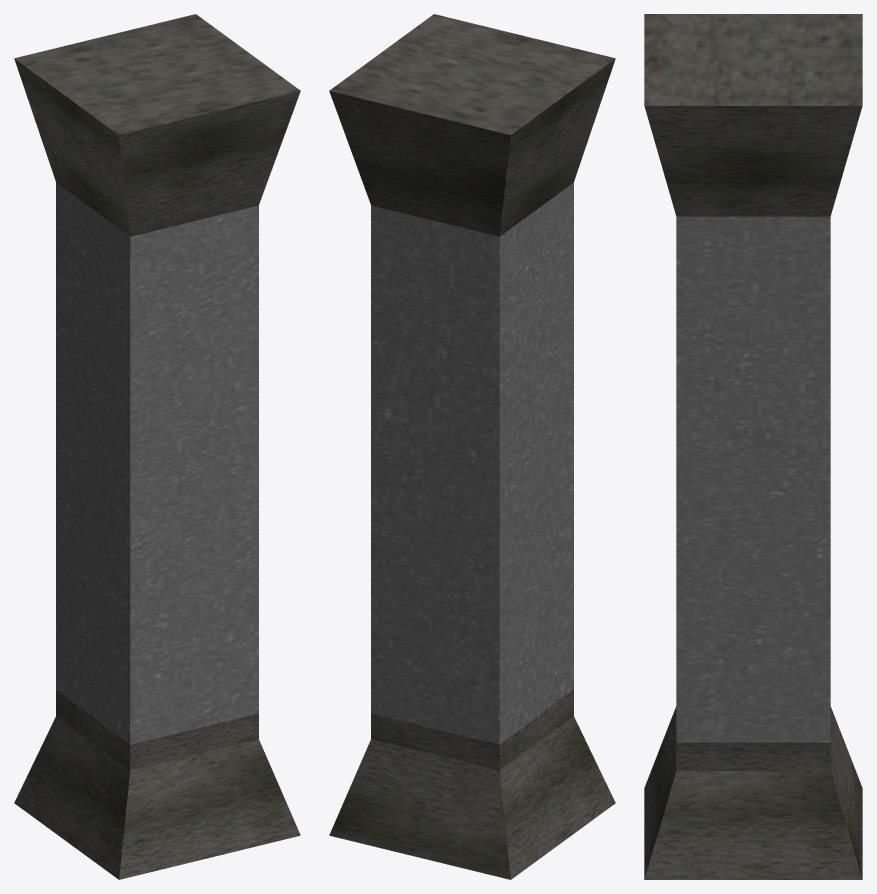
File: Colon_full.glb
3 views of the same model, side by side, from view 1: azimuth 30°, elevation 25°; view 2: azimuth 150°, elevation 25°; view 3: azimuth 270°, elevation 25° (orthographic). The views are drawn at different scales.
Parts seen in each view (by area): view 1: Cube; view 2: Cube; view 3: Cube.
Part boxes in pixels (x1,y1,x2,y2): Cube: [14, 14, 300, 879]; Cube: [329, 14, 615, 879]; Cube: [644, 14, 862, 879].
Size of the model in its own units: 1.02 by 4 by 1.02.
Materials: 2 (2 with a texture image).
